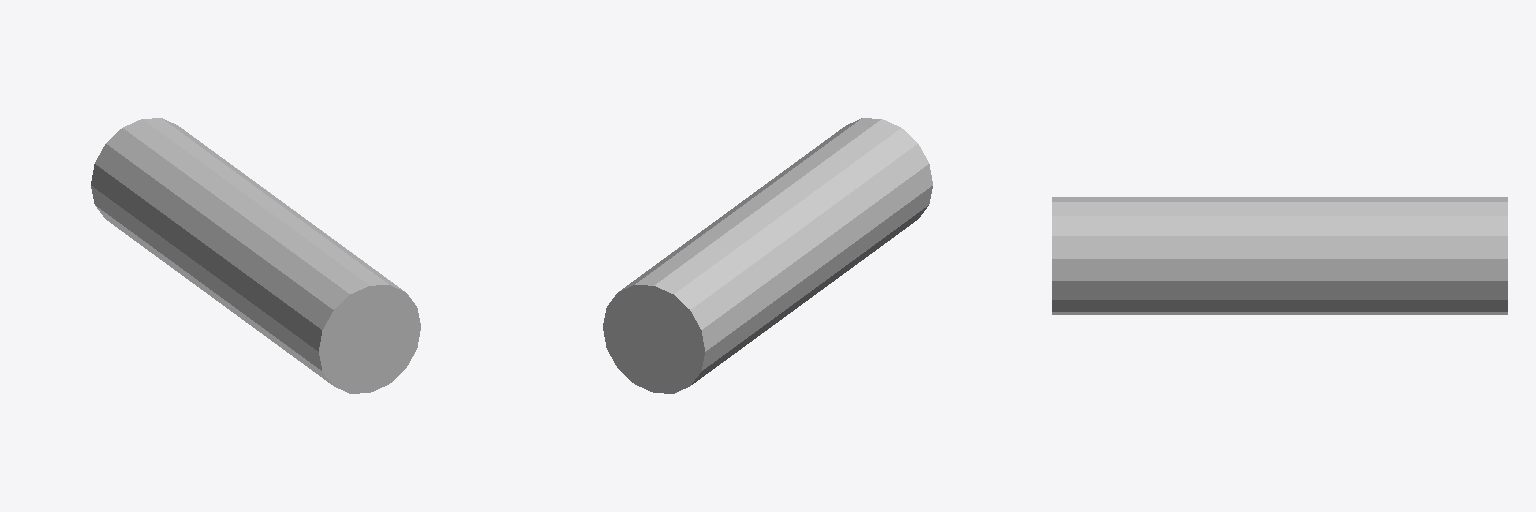
The model's file is BDD_Mat02.obj.
3 views of the same model, side by side, from view 1: azimuth 30°, elevation 25°; view 2: azimuth 150°, elevation 25°; view 3: azimuth 270°, elevation 25° (orthographic).
Parts seen in each view (by area): view 1: Mat01; view 2: Mat01; view 3: Mat01.
Part boxes in pixels (left/top/right/bottom): Mat01: left=91, top=118, right=420, bottom=393; Mat01: left=603, top=118, right=932, bottom=393; Mat01: left=1052, top=197, right=1507, bottom=314.
Size of the model in its own units: 0.13 by 0.13 by 0.5.